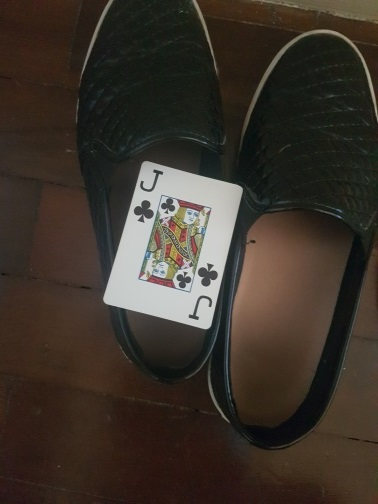jack: (104, 159, 244, 330)
